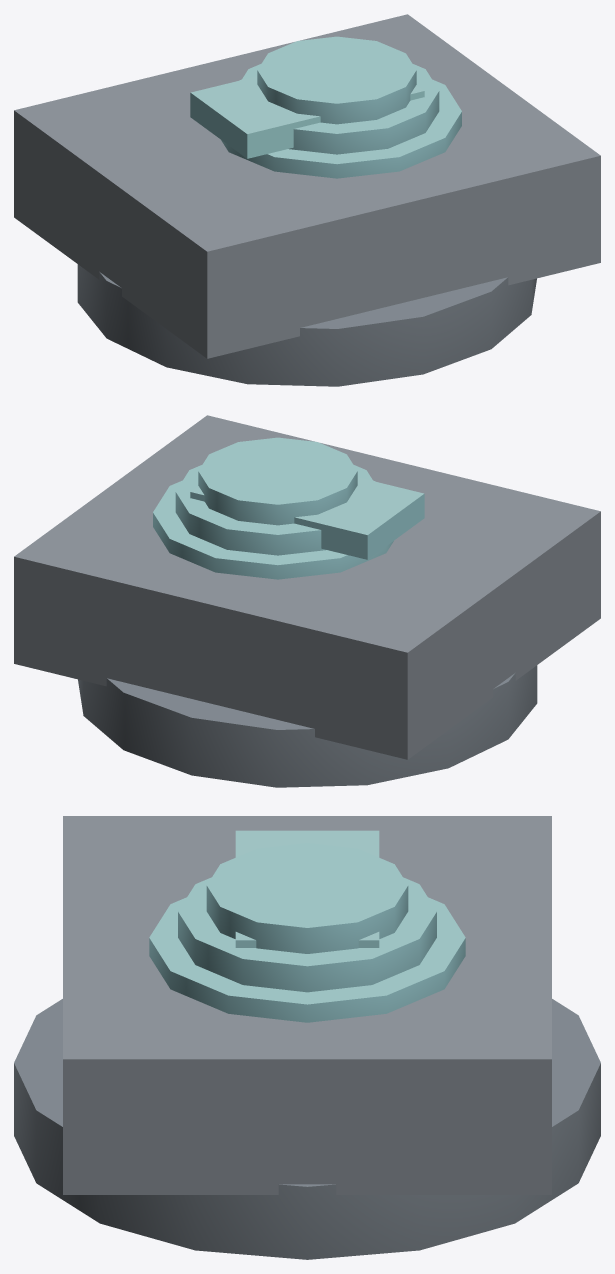
File: t_laser.glb
The picture shows the model from 3 angles, top to bottom: view 1: azimuth 30°, elevation 25°; view 2: azimuth 150°, elevation 25°; view 3: azimuth 270°, elevation 25°; orthographic projection. The views are drawn at different scales.
Parts seen in each view (by area): view 1: t_laser; view 2: t_laser; view 3: t_laser.
Part boxes in pixels (box(x1,y1,x2,y2)): t_laser: box(14, 14, 600, 386); t_laser: box(14, 415, 600, 787); t_laser: box(14, 816, 600, 1259).
Bounding box in the file's own units: 2.04 × 1.03 × 2.04.
